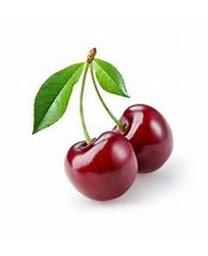cherry: (63, 130, 139, 202), (110, 103, 174, 175)
